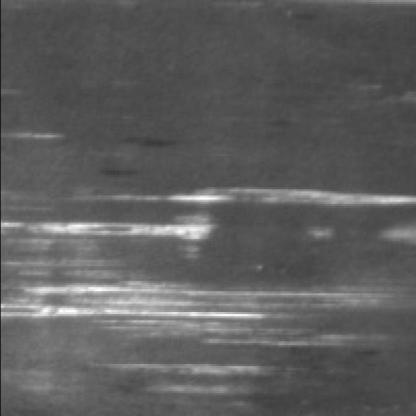scratches: (0, 280, 274, 355), (0, 207, 216, 270), (160, 183, 414, 223)
